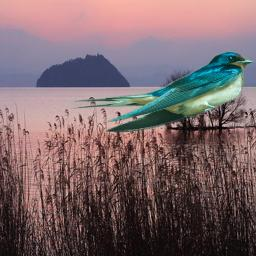Swallow: (70, 51, 253, 134)
